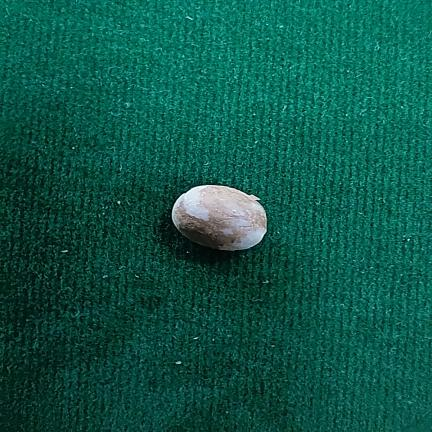immature: (172, 185, 266, 251)
